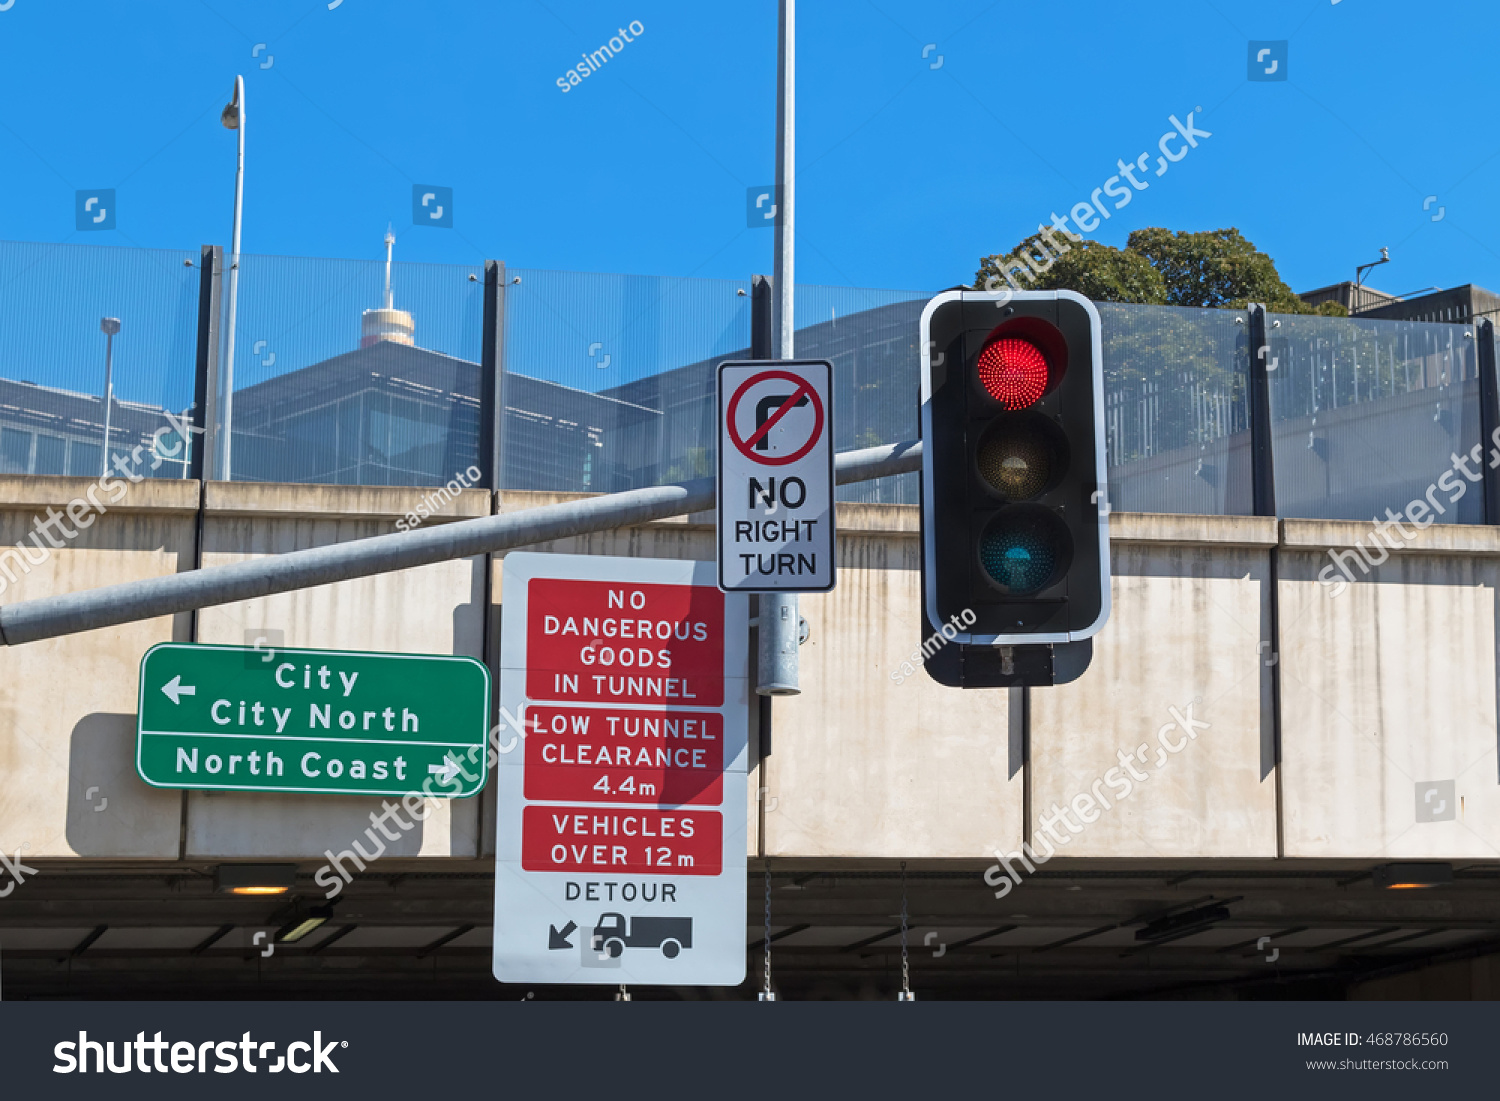No_right_turn: (727, 370, 825, 465)
